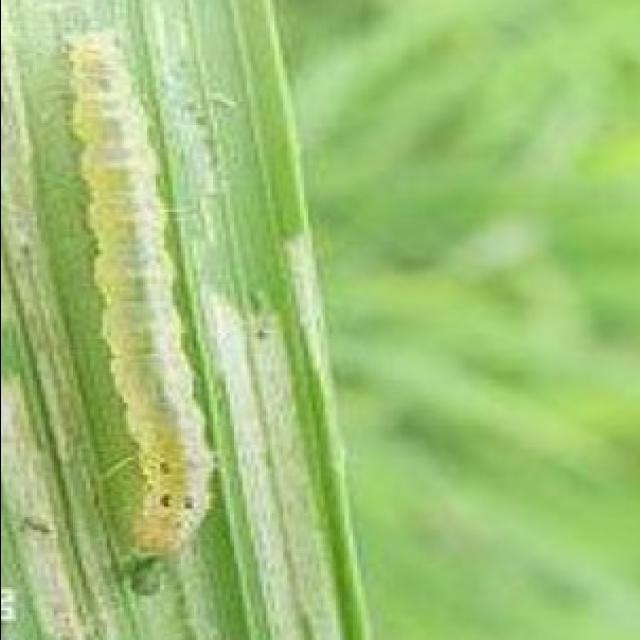rice leaf roller: (70, 34, 210, 553)
